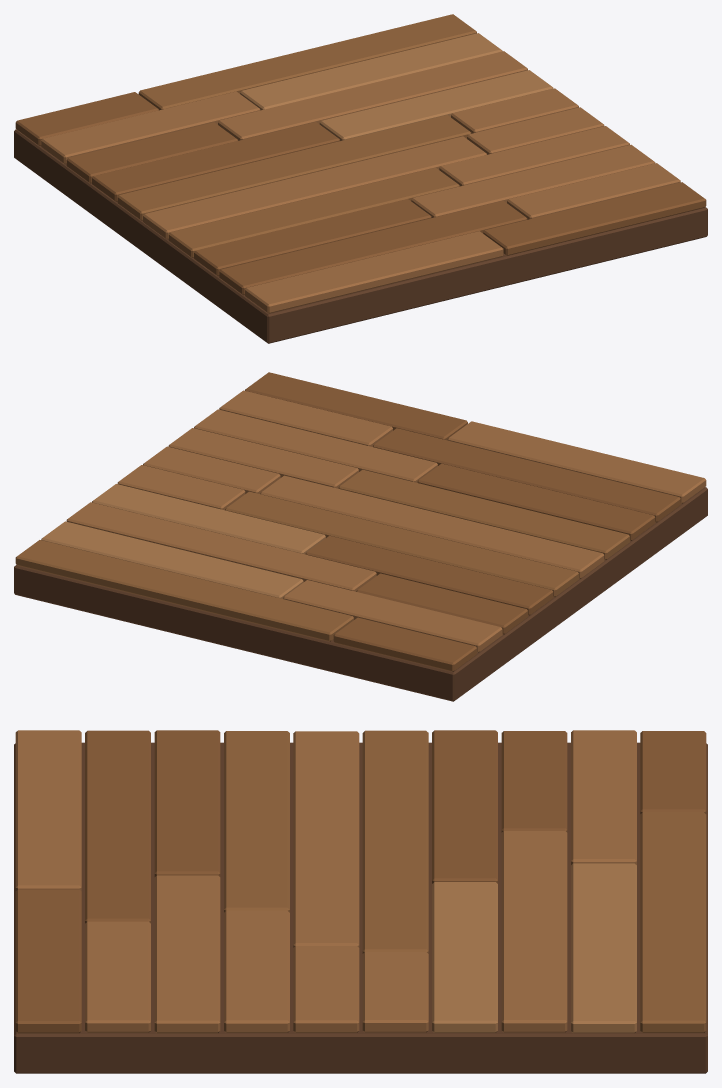
Rendered from plank_floor.glb.
3 renders of one model, top to bottom at view 1: azimuth 30°, elevation 25°; view 2: azimuth 150°, elevation 25°; view 3: azimuth 270°, elevation 25°, orthographic. The views are drawn at different scales.
Visible parts, largest first — view 1: Boards, Subfloor; view 2: Boards, Subfloor; view 3: Boards, Subfloor.
Part boxes in pixels (left/top/right/bottom): Boards: left=15, top=14, right=706, bottom=313; Subfloor: left=14, top=129, right=707, bottom=343; Boards: left=15, top=372, right=706, bottom=671; Subfloor: left=14, top=487, right=707, bottom=701; Boards: left=15, top=730, right=706, bottom=1033; Subfloor: left=14, top=742, right=707, bottom=1073.
Size of the model in its own units: 12 by 1.01 by 12.
2 materials, 2 textured.
